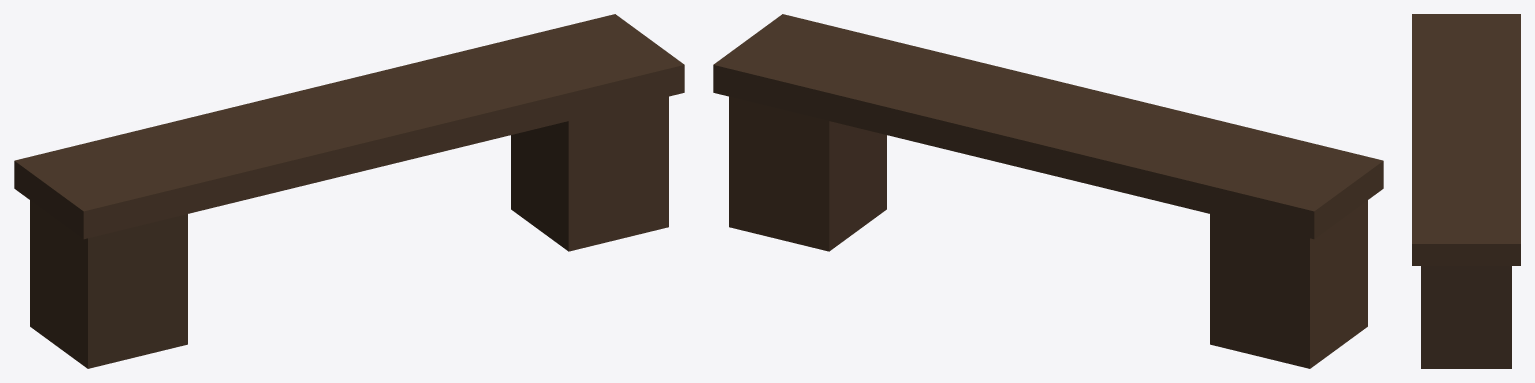
Rendered from walk_prop_bench.glb.
3 views of the same model, side by side, from view 1: azimuth 30°, elevation 25°; view 2: azimuth 150°, elevation 25°; view 3: azimuth 270°, elevation 25° (orthographic). The views are drawn at different scales.
Visible parts, largest first — view 1: walk_prop_bench; view 2: walk_prop_bench; view 3: walk_prop_bench.
Part boxes in pixels (<box>): walk_prop_bench: <box>14,14,684,368</box>; walk_prop_bench: <box>713,14,1383,368</box>; walk_prop_bench: <box>1412,14,1520,368</box>.
Size of what is drawn, in the model's own units: 1.8 by 0.47 by 0.36.
Materials: 1 (1 with a texture image).
